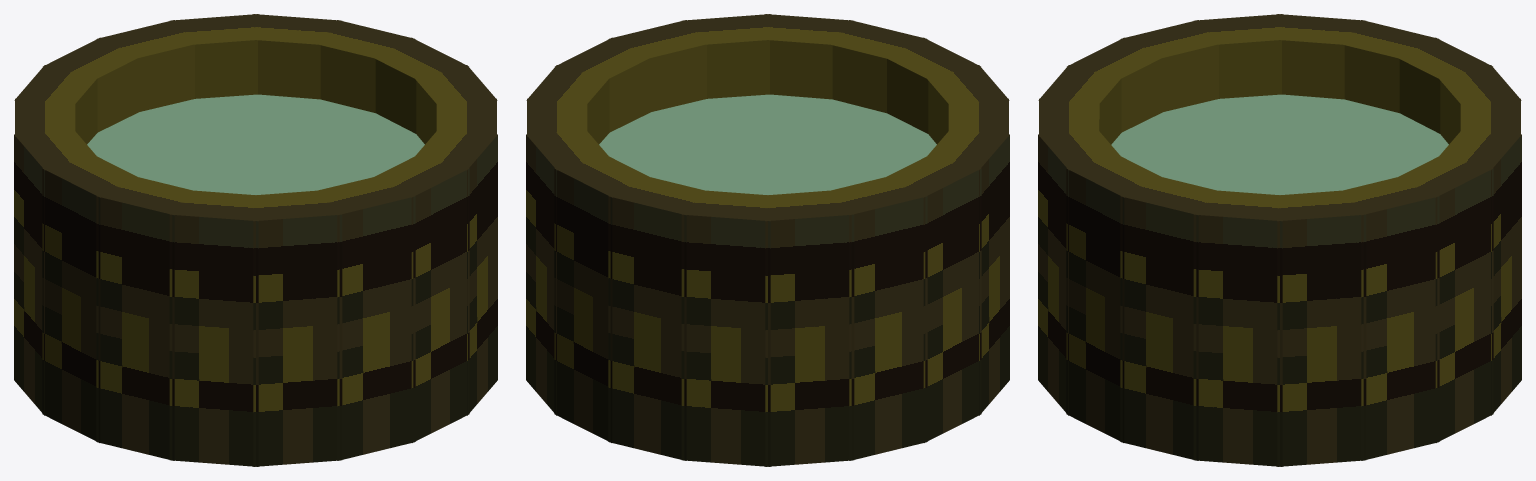
Rendered from Water.gltf.
3 renders of one model, left to right at view 1: azimuth 30°, elevation 25°; view 2: azimuth 150°, elevation 25°; view 3: azimuth 270°, elevation 25°, orthographic.
Visible parts, largest first — view 1: Water; view 2: Water; view 3: Water.
Boxes of the visible parts, x1,y1,x2,y2 form: Water: [14, 14, 497, 466]; Water: [526, 14, 1009, 466]; Water: [1038, 14, 1521, 466].
Size of the model in its own units: 1.02 by 0.5625 by 1.
Materials: 1 (1 with a texture image).
